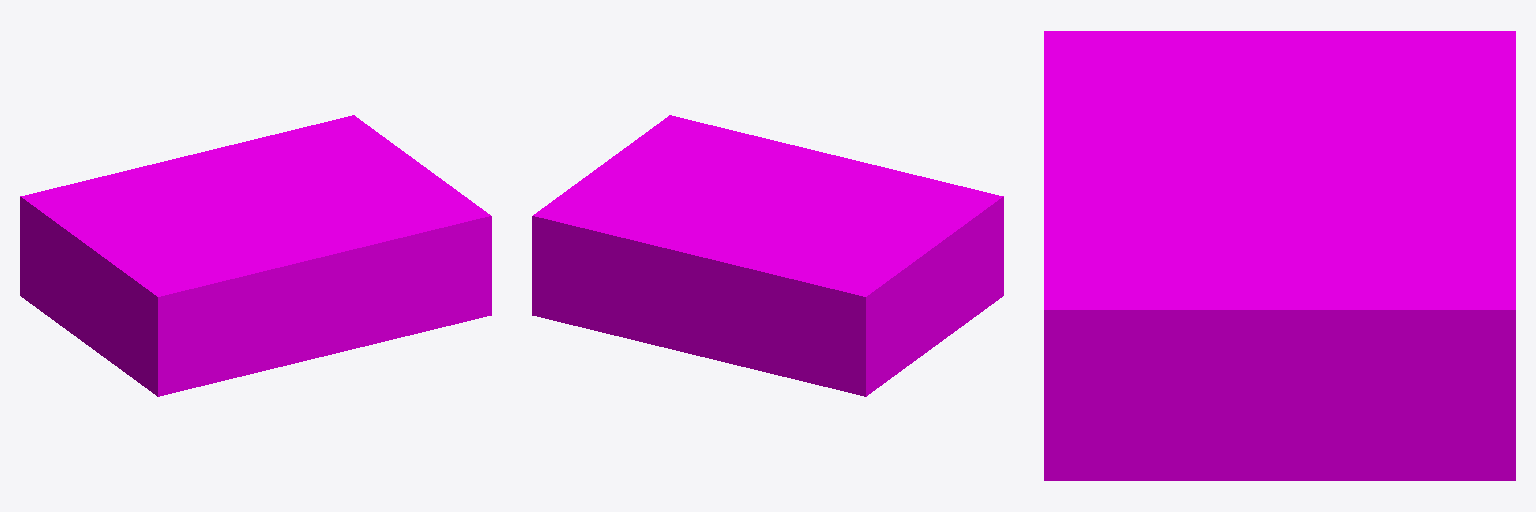
URDF robot description (wall5):
<?xml version="1.0"?>
<robot name="wall5">
	<link name="base">
	<inertial>
        	 <origin xyz="0 0 0" rpy="0 0 0"/>
        	 <mass value="3"/>
        	 <inertia ixx="0.000683333"  ixy="0"  ixz="0" iyy="0.000683333" iyz="0" izz="0.000683333" />
       </inertial>
		<visual>
			<origin xyz="0 0 0" rpy="0 0 0" />
			<geometry>
				<box size="0.07 0.05 0.02" />
			</geometry>
			<material>
				<color rgba="1 0 1 1" />
			</material>
		</visual>
		<collision>
			<origin xyz="0 0 0" rpy="0 0 0" />
			<geometry>
				<box size="0.07 0.05 0.02" />
			</geometry>
			
		</collision>
	</link>
</robot>

--- Render facts (derived) ---
The picture shows the robot from 3 angles, left to right: view 1: azimuth 30°, elevation 25°; view 2: azimuth 150°, elevation 25°; view 3: azimuth 270°, elevation 25°; orthographic projection.
Model wall5 with 1 links and 0 joints (none), rooted at base, posed every joint at zero.
Links seen in each view (by area): view 1: base; view 2: base; view 3: base.
Boxes of the visible links, box(x1,y1,x2,y2) form: base: box(20, 115, 491, 396); base: box(532, 115, 1003, 396); base: box(1044, 31, 1515, 480).
Bounding box of the posed robot: 0.07 × 0.05 × 0.02 m (x, y, z).
Geometry: primitives only (box / cylinder / sphere), no mesh files.
